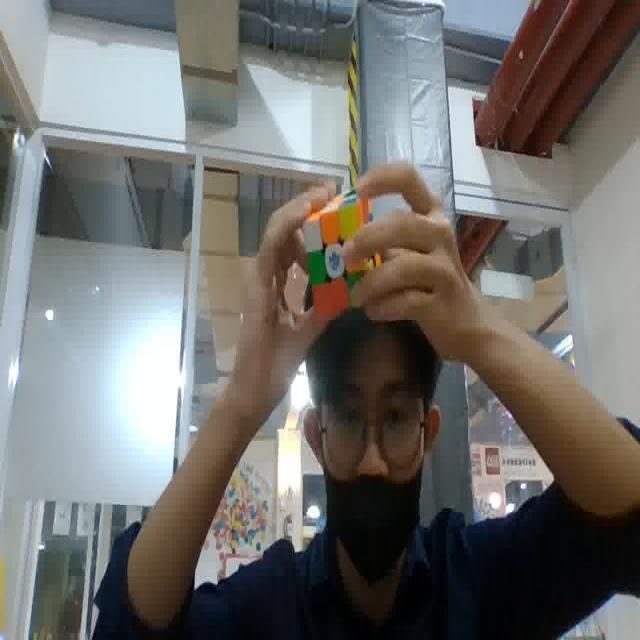Rub: (301, 190, 384, 316)
